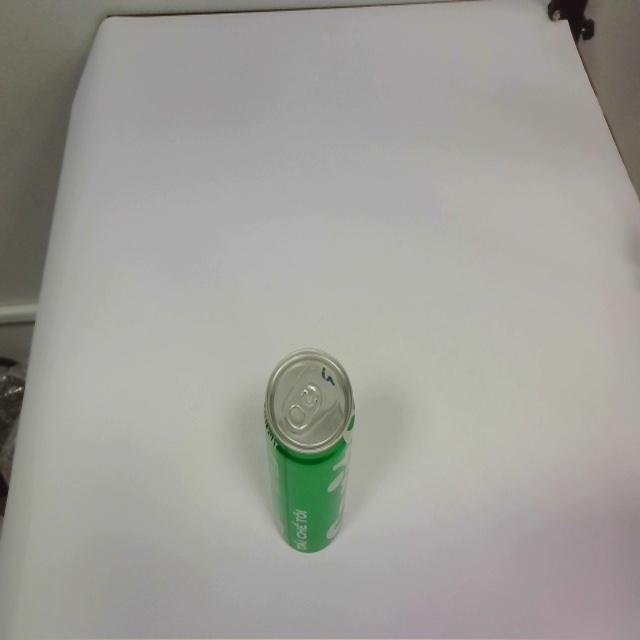debris: (263, 348, 357, 555)
